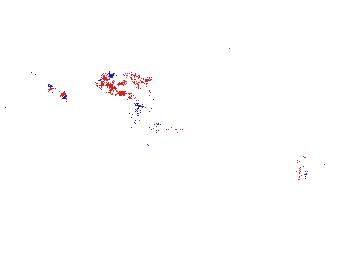red belly glassfish: (146, 116, 222, 148), (34, 71, 71, 103)
redtail glassfish: (91, 62, 166, 114), (295, 141, 334, 196)
